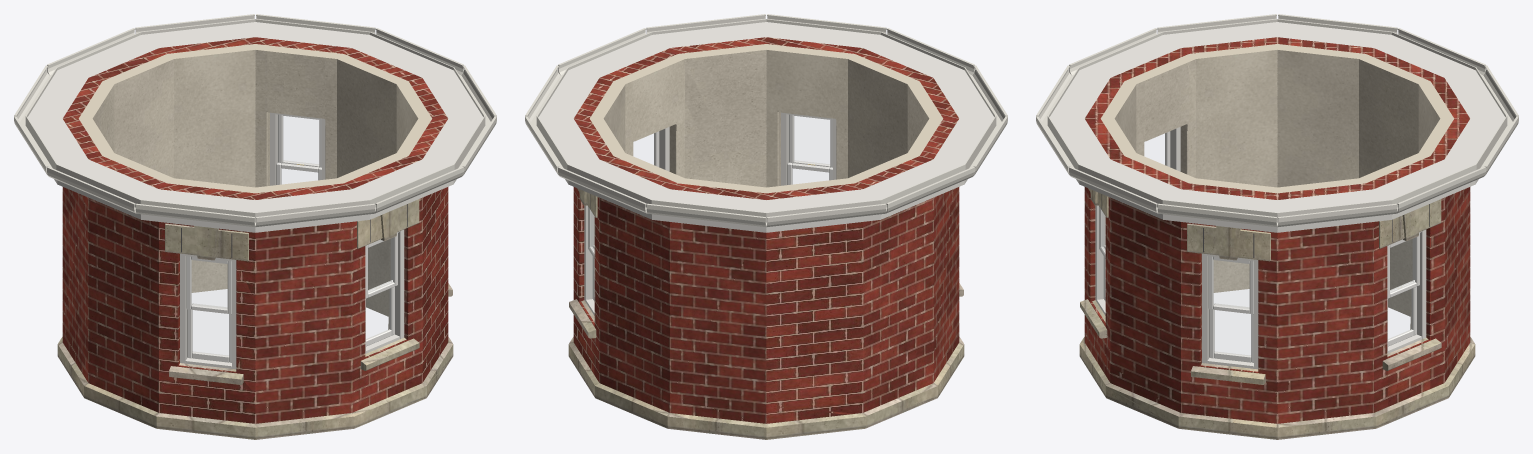
Rendered from turret2.glb.
3 views of the same model, side by side, from view 1: azimuth 30°, elevation 25°; view 2: azimuth 150°, elevation 25°; view 3: azimuth 270°, elevation 25° (orthographic).
Parts seen in each view (by area): view 1: turret2_brick, turret2_plaster, turret2_trim, turret2_gutter, turret2_stone_t, turret2_glass, turret2_frame, turret2_sash; view 2: turret2_brick, turret2_plaster, turret2_trim, turret2_gutter, turret2_stone_t, turret2_glass, turret2_frame, turret2_sash; view 3: turret2_brick, turret2_plaster, turret2_trim, turret2_stone_t, turret2_gutter, turret2_glass, turret2_frame, turret2_sash.
Part boxes in pixels (x1,y1,x2,y2): turret2_brick: (62, 37, 448, 423); turret2_plaster: (78, 44, 432, 329); turret2_trim: (27, 22, 483, 232); turret2_gutter: (14, 14, 496, 227); turret2_stone_t: (57, 199, 453, 439); turret2_glass: (192, 116, 393, 355); turret2_frame: (180, 112, 404, 369); turret2_sash: (186, 114, 397, 362); turret2_brick: (573, 37, 959, 423); turret2_plaster: (589, 44, 943, 193); turret2_trim: (538, 22, 994, 232); turret2_gutter: (525, 14, 1007, 227); turret2_stone_t: (568, 188, 964, 439); turret2_glass: (591, 116, 829, 249); turret2_frame: (584, 112, 836, 315); turret2_sash: (588, 114, 832, 301); turret2_brick: (1084, 37, 1470, 423); turret2_plaster: (1100, 44, 1454, 329); turret2_trim: (1049, 22, 1505, 232); turret2_stone_t: (1079, 188, 1475, 439); turret2_gutter: (1036, 14, 1518, 227); turret2_glass: (1102, 134, 1415, 355); turret2_frame: (1095, 127, 1426, 369); turret2_sash: (1099, 131, 1419, 362).
Size of the model in its own units: 5.01 by 2.75 by 5.01.
10 materials, 3 textured.
